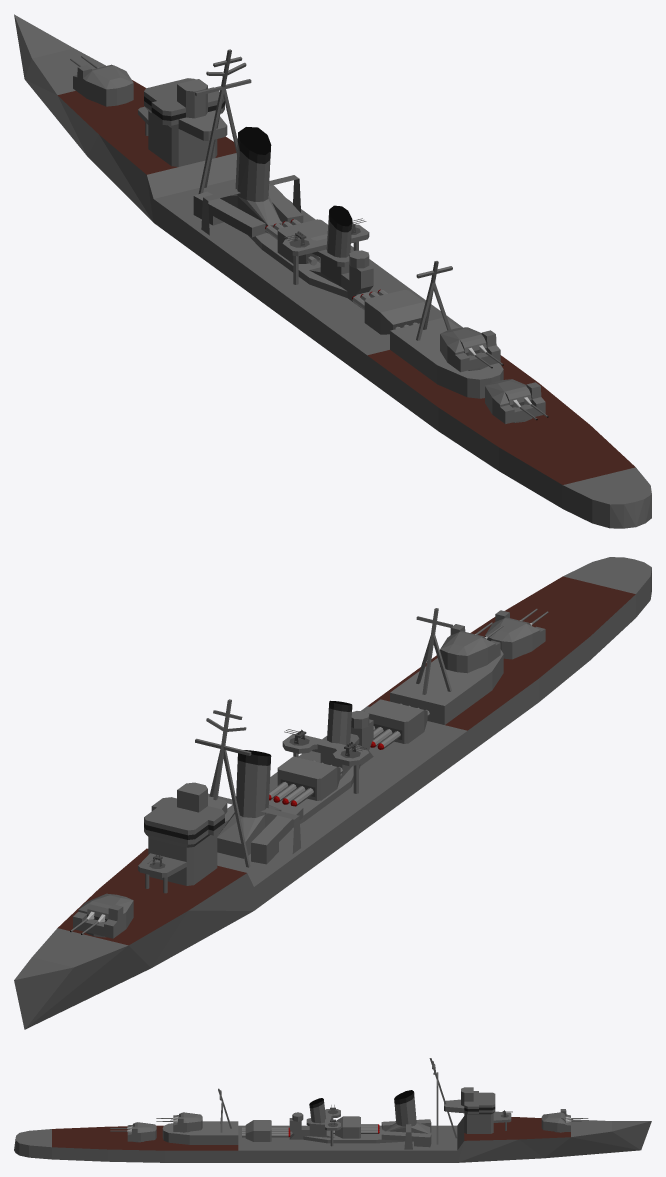
The model's file is kagerou.obj.
3 views of the same model, one above another, from view 1: azimuth 30°, elevation 25°; view 2: azimuth 150°, elevation 25°; view 3: azimuth 270°, elevation 25° (orthographic). The views are drawn at different scales.
Parts seen in each view (by area): view 1: ShapeIndexedFaceSet_ShapeIndexedFaceSet.001, ShapeIndexedFaceSet.003_ShapeIndexedFaceSet.004, ShapeIndexedFaceSet.004_ShapeIndexedFaceSet.005, ShapeIndexedFaceSet.013_ShapeIndexedFaceSet.014, ShapeIndexedFaceSet.009_ShapeIndexedFaceSet.010, ShapeIndexedFaceSet.005_ShapeIndexedFaceSet.006, ShapeIndexedFaceSet.022_ShapeIndexedFaceSet.023, ShapeIndexedFaceSet.002_ShapeIndexedFaceSet.003, ShapeIndexedFaceSet.001_ShapeIndexedFaceSet.002, ShapeIndexedFaceSet.023_ShapeIndexedFaceSet.024; view 2: ShapeIndexedFaceSet_ShapeIndexedFaceSet.001, ShapeIndexedFaceSet.003_ShapeIndexedFaceSet.004, ShapeIndexedFaceSet.004_ShapeIndexedFaceSet.005, ShapeIndexedFaceSet.009_ShapeIndexedFaceSet.010, ShapeIndexedFaceSet.005_ShapeIndexedFaceSet.006, ShapeIndexedFaceSet.013_ShapeIndexedFaceSet.014, ShapeIndexedFaceSet.017_ShapeIndexedFaceSet.018, ShapeIndexedFaceSet.001_ShapeIndexedFaceSet.002, ShapeIndexedFaceSet.022_ShapeIndexedFaceSet.023, ShapeIndexedFaceSet.018_ShapeIndexedFaceSet.019, ShapeIndexedFaceSet.023_ShapeIndexedFaceSet.024; view 3: ShapeIndexedFaceSet_ShapeIndexedFaceSet.001, ShapeIndexedFaceSet.003_ShapeIndexedFaceSet.004, ShapeIndexedFaceSet.004_ShapeIndexedFaceSet.005, ShapeIndexedFaceSet.005_ShapeIndexedFaceSet.006, ShapeIndexedFaceSet.013_ShapeIndexedFaceSet.014, ShapeIndexedFaceSet.009_ShapeIndexedFaceSet.010, ShapeIndexedFaceSet.022_ShapeIndexedFaceSet.023, ShapeIndexedFaceSet.017_ShapeIndexedFaceSet.018, ShapeIndexedFaceSet.001_ShapeIndexedFaceSet.002, ShapeIndexedFaceSet.025_ShapeIndexedFaceSet.026, ShapeIndexedFaceSet.018_ShapeIndexedFaceSet.019, ShapeIndexedFaceSet.023_ShapeIndexedFaceSet.024 (+1 smaller).
Boxes of the visible parts, left/top/right/bottom form: ShapeIndexedFaceSet_ShapeIndexedFaceSet.001: left=14, top=14, right=651, bottom=528; ShapeIndexedFaceSet.003_ShapeIndexedFaceSet.004: left=57, top=80, right=635, bottom=484; ShapeIndexedFaceSet.004_ShapeIndexedFaceSet.005: left=177, top=79, right=503, bottom=379; ShapeIndexedFaceSet.013_ShapeIndexedFaceSet.014: left=485, top=379, right=545, bottom=423; ShapeIndexedFaceSet.009_ShapeIndexedFaceSet.010: left=440, top=327, right=500, bottom=372; ShapeIndexedFaceSet.005_ShapeIndexedFaceSet.006: left=73, top=64, right=133, bottom=106; ShapeIndexedFaceSet.022_ShapeIndexedFaceSet.023: left=364, top=301, right=424, bottom=334; ShapeIndexedFaceSet.002_ShapeIndexedFaceSet.003: left=238, top=127, right=352, bottom=226; ShapeIndexedFaceSet.001_ShapeIndexedFaceSet.002: left=144, top=96, right=352, bottom=232; ShapeIndexedFaceSet.023_ShapeIndexedFaceSet.024: left=365, top=290, right=423, bottom=312; ShapeIndexedFaceSet_ShapeIndexedFaceSet.001: left=14, top=557, right=651, bottom=1029; ShapeIndexedFaceSet.003_ShapeIndexedFaceSet.004: left=58, top=576, right=635, bottom=945; ShapeIndexedFaceSet.004_ShapeIndexedFaceSet.005: left=177, top=649, right=503, bottom=845; ShapeIndexedFaceSet.009_ShapeIndexedFaceSet.010: left=440, top=624, right=500, bottom=673; ShapeIndexedFaceSet.005_ShapeIndexedFaceSet.006: left=73, top=893, right=133, bottom=938; ShapeIndexedFaceSet.013_ShapeIndexedFaceSet.014: left=485, top=610, right=545, bottom=659; ShapeIndexedFaceSet.017_ShapeIndexedFaceSet.018: left=277, top=767, right=340, bottom=800; ShapeIndexedFaceSet.001_ShapeIndexedFaceSet.002: left=144, top=701, right=352, bottom=839; ShapeIndexedFaceSet.022_ShapeIndexedFaceSet.023: left=369, top=710, right=427, bottom=743; ShapeIndexedFaceSet.018_ShapeIndexedFaceSet.019: left=278, top=756, right=336, bottom=778; ShapeIndexedFaceSet.023_ShapeIndexedFaceSet.024: left=365, top=699, right=423, bottom=721; ShapeIndexedFaceSet_ShapeIndexedFaceSet.001: left=14, top=1058, right=651, bottom=1162; ShapeIndexedFaceSet.003_ShapeIndexedFaceSet.004: left=52, top=1117, right=570, bottom=1150; ShapeIndexedFaceSet.004_ShapeIndexedFaceSet.005: left=162, top=1087, right=473, bottom=1139; ShapeIndexedFaceSet.005_ShapeIndexedFaceSet.006: left=541, top=1109, right=570, bottom=1132; ShapeIndexedFaceSet.013_ShapeIndexedFaceSet.014: left=127, top=1122, right=156, bottom=1142; ShapeIndexedFaceSet.009_ShapeIndexedFaceSet.010: left=173, top=1112, right=202, bottom=1132; ShapeIndexedFaceSet.022_ShapeIndexedFaceSet.023: left=245, top=1120, right=271, bottom=1141; ShapeIndexedFaceSet.017_ShapeIndexedFaceSet.018: left=335, top=1116, right=360, bottom=1138; ShapeIndexedFaceSet.001_ShapeIndexedFaceSet.002: left=309, top=1092, right=495, bottom=1111; ShapeIndexedFaceSet.025_ShapeIndexedFaceSet.026: left=242, top=1127, right=288, bottom=1137; ShapeIndexedFaceSet.018_ShapeIndexedFaceSet.019: left=343, top=1116, right=360, bottom=1127; ShapeIndexedFaceSet.023_ShapeIndexedFaceSet.024: left=253, top=1120, right=271, bottom=1130.
Size of the model in its own units: 35.56 by 60.67 by 381.
